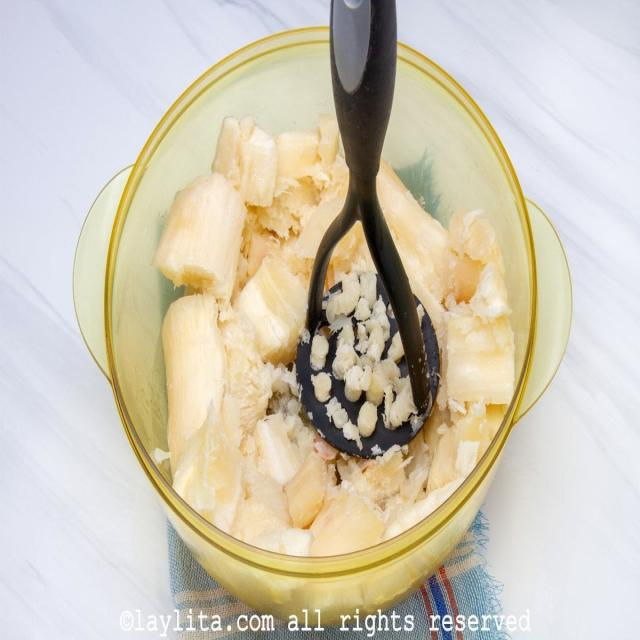yuca: (152, 165, 250, 318)
